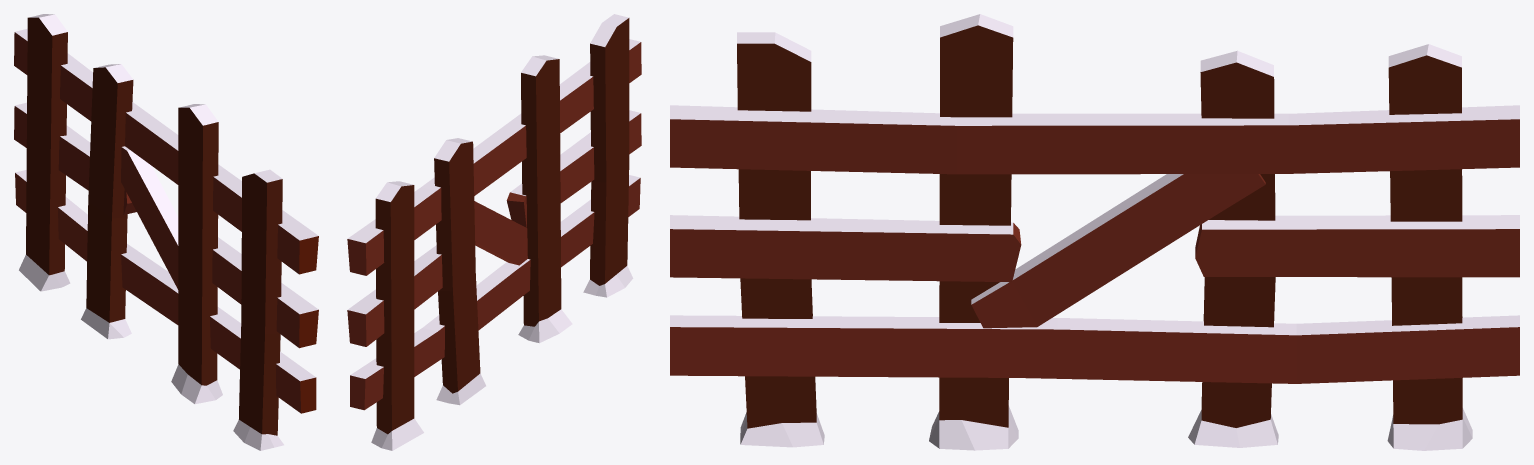
Rendered from winter_castle_item2.glb.
The picture shows the model from 3 angles, left to right: view 1: azimuth 30°, elevation 25°; view 2: azimuth 150°, elevation 25°; view 3: azimuth 270°, elevation 25°; orthographic projection. The views are drawn at different scales.
Parts seen in each view (by area): view 1: Item2_Medieval_0; view 2: Item2_Medieval_0; view 3: Item2_Medieval_0.
Boxes of the visible parts, x1,y1,x2,y2 form: Item2_Medieval_0: (14,14,318,450); Item2_Medieval_0: (347,14,641,450); Item2_Medieval_0: (670,14,1519,450).
Size of the model in its own units: 0.1171 by 0.7697 by 1.41.
Materials: 1 (1 with a texture image).
